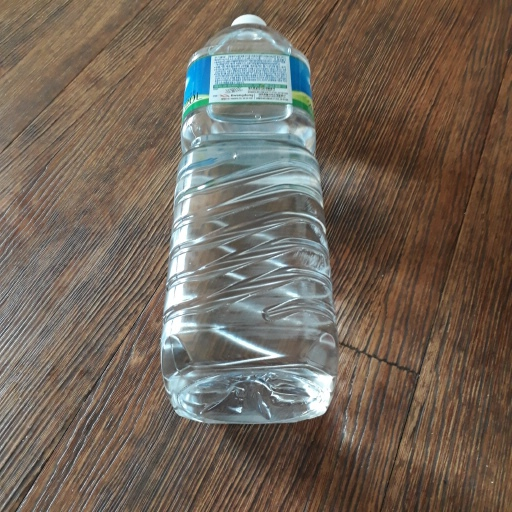Plastic_0: (161, 15, 339, 426)
